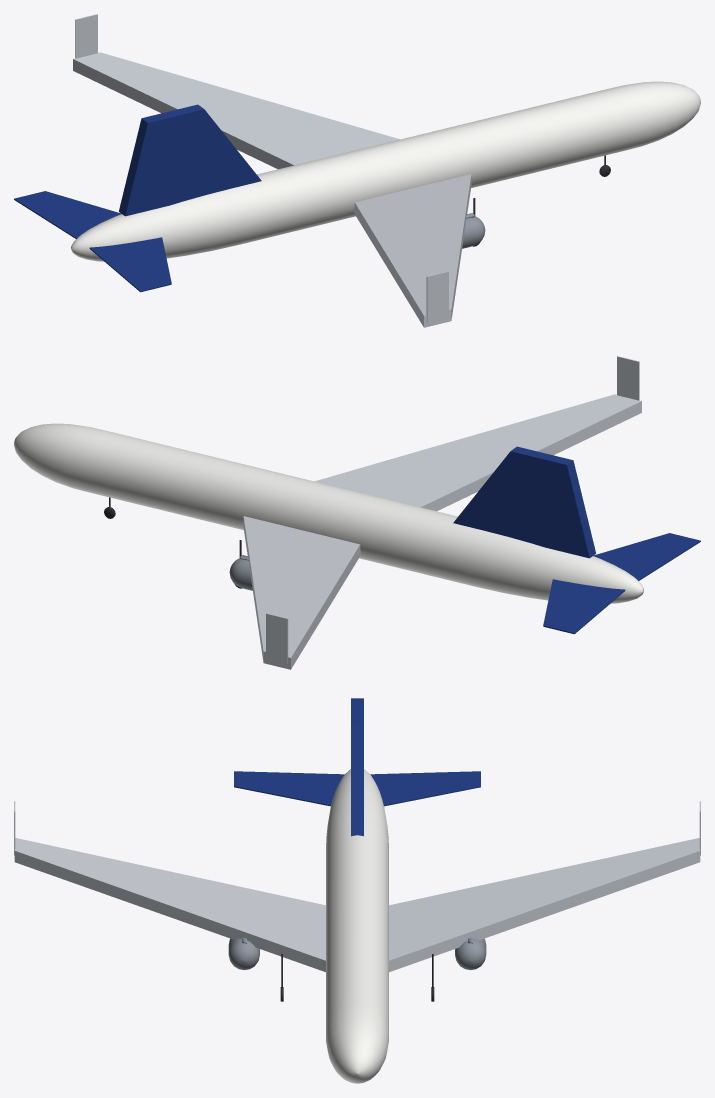
3 renders of one model, top to bottom at view 1: azimuth 30°, elevation 25°; view 2: azimuth 150°, elevation 25°; view 3: azimuth 270°, elevation 25°, orthographic. The views are drawn at different scales.
Parts seen in each view (by area): view 1: fuselage, wings, tail, engines; view 2: fuselage, wings, tail, engines; view 3: wings, fuselage, tail, engines.
Boxes of the visible parts, box(x1,y1,x2,y2) form: fuselage: box(71, 81, 700, 261); wings: box(73, 14, 471, 327); tail: box(14, 104, 261, 292); engines: box(462, 213, 485, 248); fuselage: box(14, 423, 643, 603); wings: box(243, 356, 641, 669); tail: box(453, 446, 700, 634); engines: box(229, 555, 252, 590); wings: box(14, 801, 700, 972); fuselage: box(326, 769, 388, 1083); tail: box(234, 698, 480, 836); engines: box(228, 937, 486, 970).
Size of the model in its own units: 66.8 by 17.09 by 64.87.
